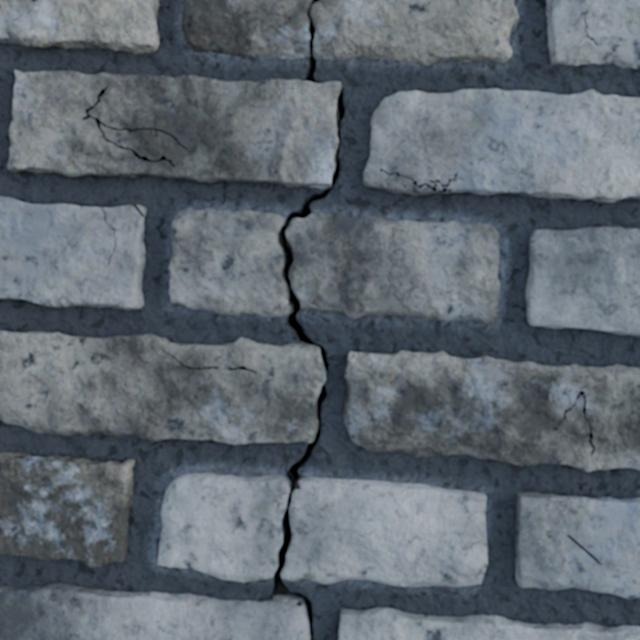broken_brick: (286, 213, 500, 322), (281, 477, 487, 587), (182, 0, 518, 65), (158, 473, 289, 582), (169, 208, 289, 316)
crack: (0, 7, 347, 639), (343, 350, 639, 471), (363, 89, 639, 202), (0, 196, 146, 309), (0, 452, 134, 567), (515, 492, 639, 598), (526, 227, 639, 336), (339, 607, 639, 639), (0, 0, 159, 53), (545, 0, 639, 68), (310, 0, 318, 5), (473, 492, 485, 495)
